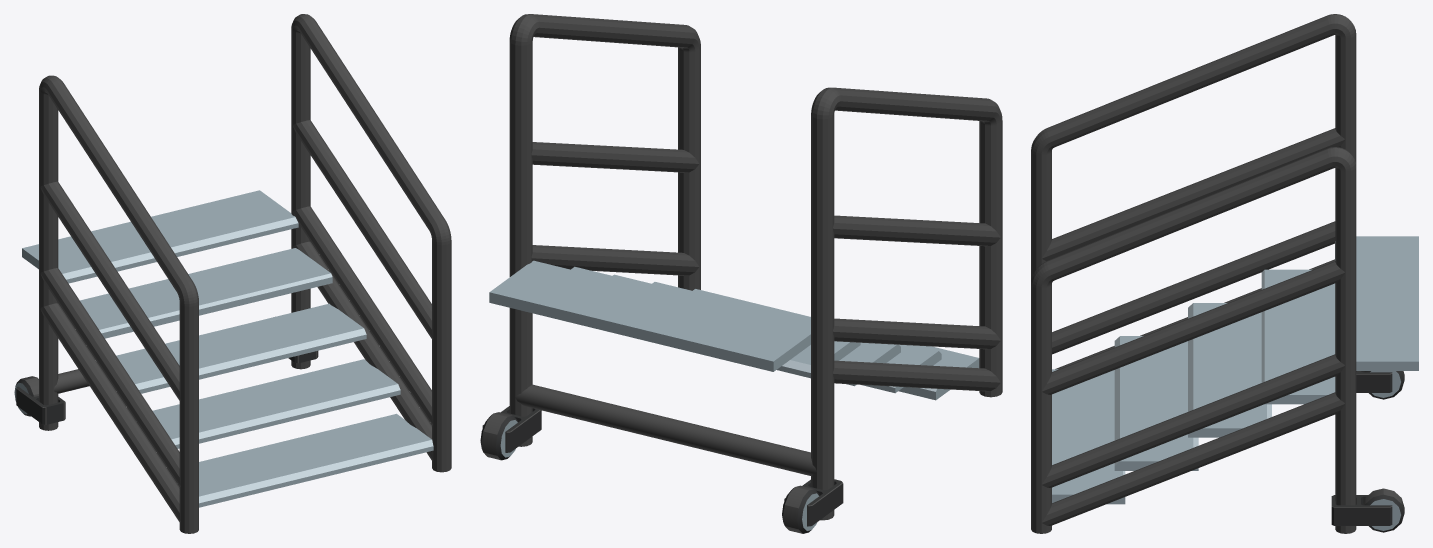
Rendered from StageStair.fbx.
3 renders of one model, left to right at view 1: azimuth 30°, elevation 25°; view 2: azimuth 150°, elevation 25°; view 3: azimuth 270°, elevation 25°, orthographic. The views are drawn at different scales.
Parts seen in each view (by area): view 1: StairRail, Step1, Step2, Step5, Step4, Step3, WheelBracketR; view 2: StairRail, Step5, Step4, Step2, Step1, Step3, WheelL, WheelR, WheelBracketR, WheelBracketL; view 3: StairRail, Step5, Step3, Step4, Step2, Step1, WheelBracketL, WheelL, WheelBracketR, WheelR.
Boxes of the visible parts, <box> form: StairRail: <box>39,14,451,533</box>; Step1: <box>199,413,433,507</box>; Step2: <box>152,359,400,448</box>; Step5: <box>22,190,298,283</box>; Step4: <box>80,248,332,338</box>; Step3: <box>116,303,366,393</box>; WheelBracketR: <box>16,386,65,424</box>; StairRail: <box>509,14,1002,520</box>; Step5: <box>489,260,810,371</box>; Step4: <box>571,266,860,378</box>; Step2: <box>652,282,941,393</box>; Step1: <box>693,289,979,400</box>; Step3: <box>612,274,900,386</box>; WheelL: <box>480,412,517,460</box>; WheelR: <box>782,485,819,533</box>; WheelBracketR: <box>784,479,843,526</box>; WheelBracketL: <box>482,406,541,452</box>; StairRail: <box>1031,14,1356,533</box>; Step5: <box>1335,236,1418,370</box>; Step3: <box>1188,303,1271,437</box>; Step4: <box>1261,269,1335,404</box>; Step2: <box>1114,336,1198,470</box>; Step1: <box>1052,369,1125,504</box>; WheelBracketL: <box>1331,495,1392,525</box>; WheelL: <box>1363,488,1404,532</box>; WheelBracketR: <box>1356,371,1392,392</box>; WheelR: <box>1363,371,1404,399</box>.
Bounding box in the file's own units: 164 × 201 × 185.
